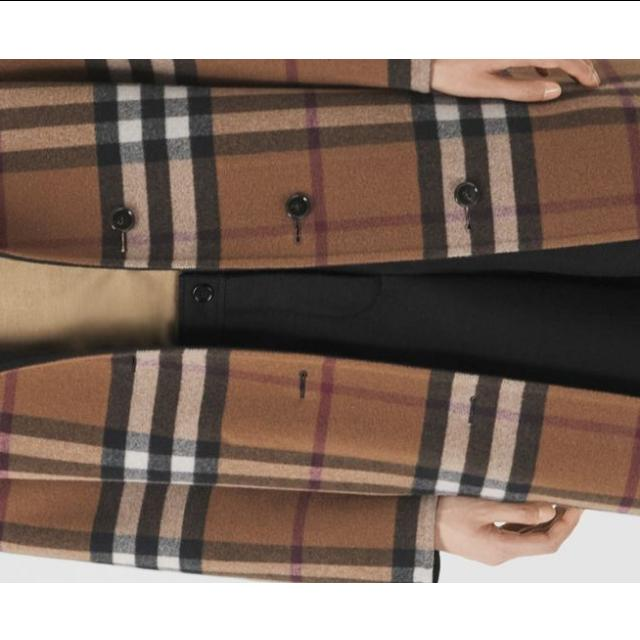wool: (0, 58, 640, 582)
